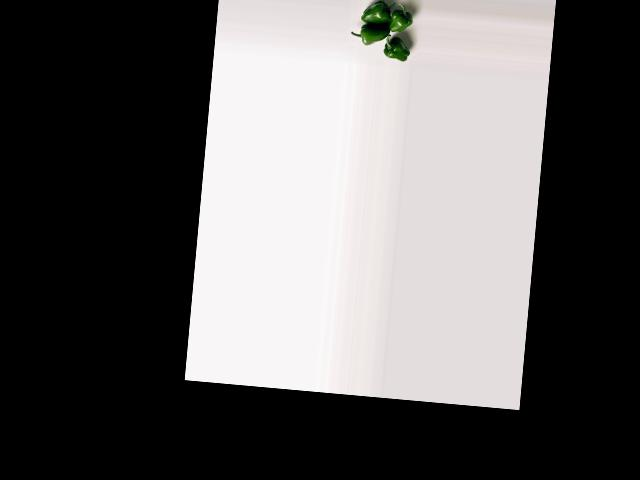bell_pepper: (390, 4, 413, 35)
